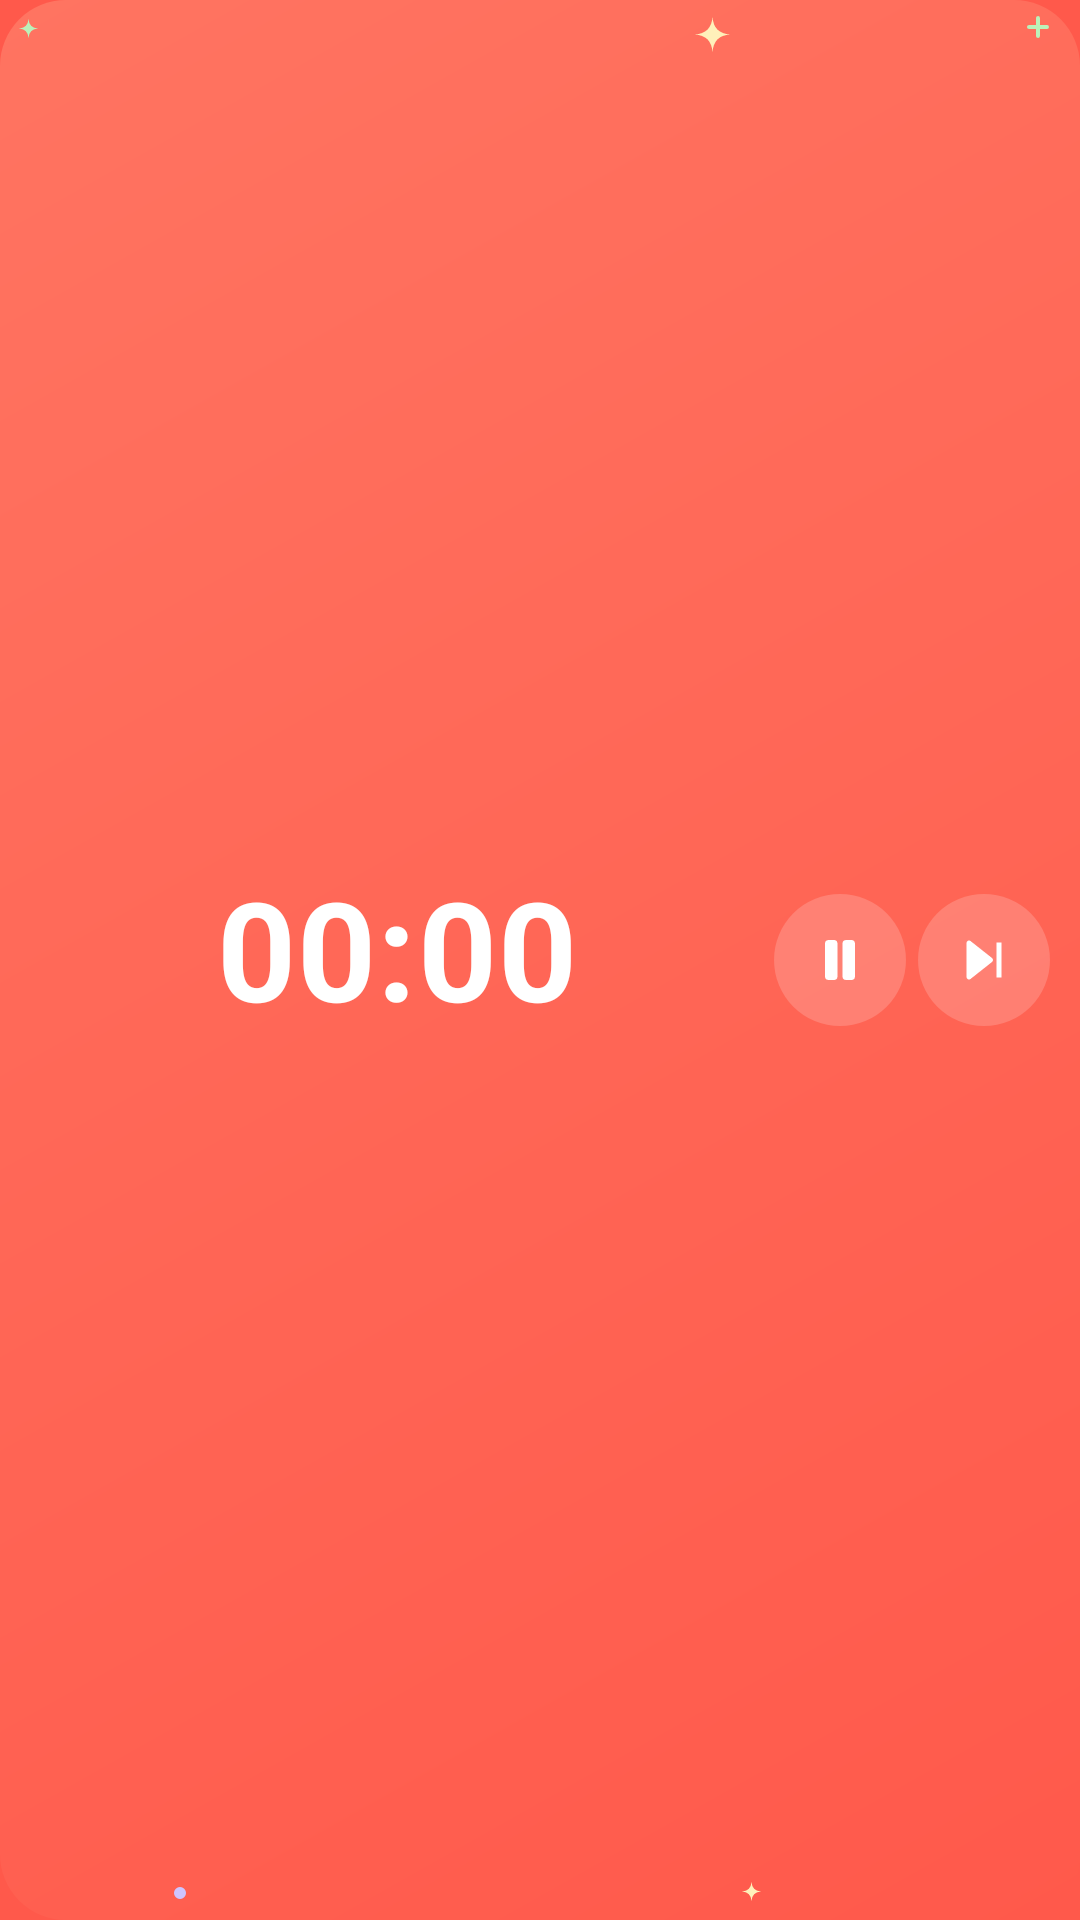

Icon bounding boxes for this 1080x1920 phone screenshot, format [left=x1, top=y1, right=x2, bottom=y2]:
건너뛰기: [left=918, top=894, right=1050, bottom=1026]
재생 또는 멈춤: [left=774, top=894, right=906, bottom=1026]
